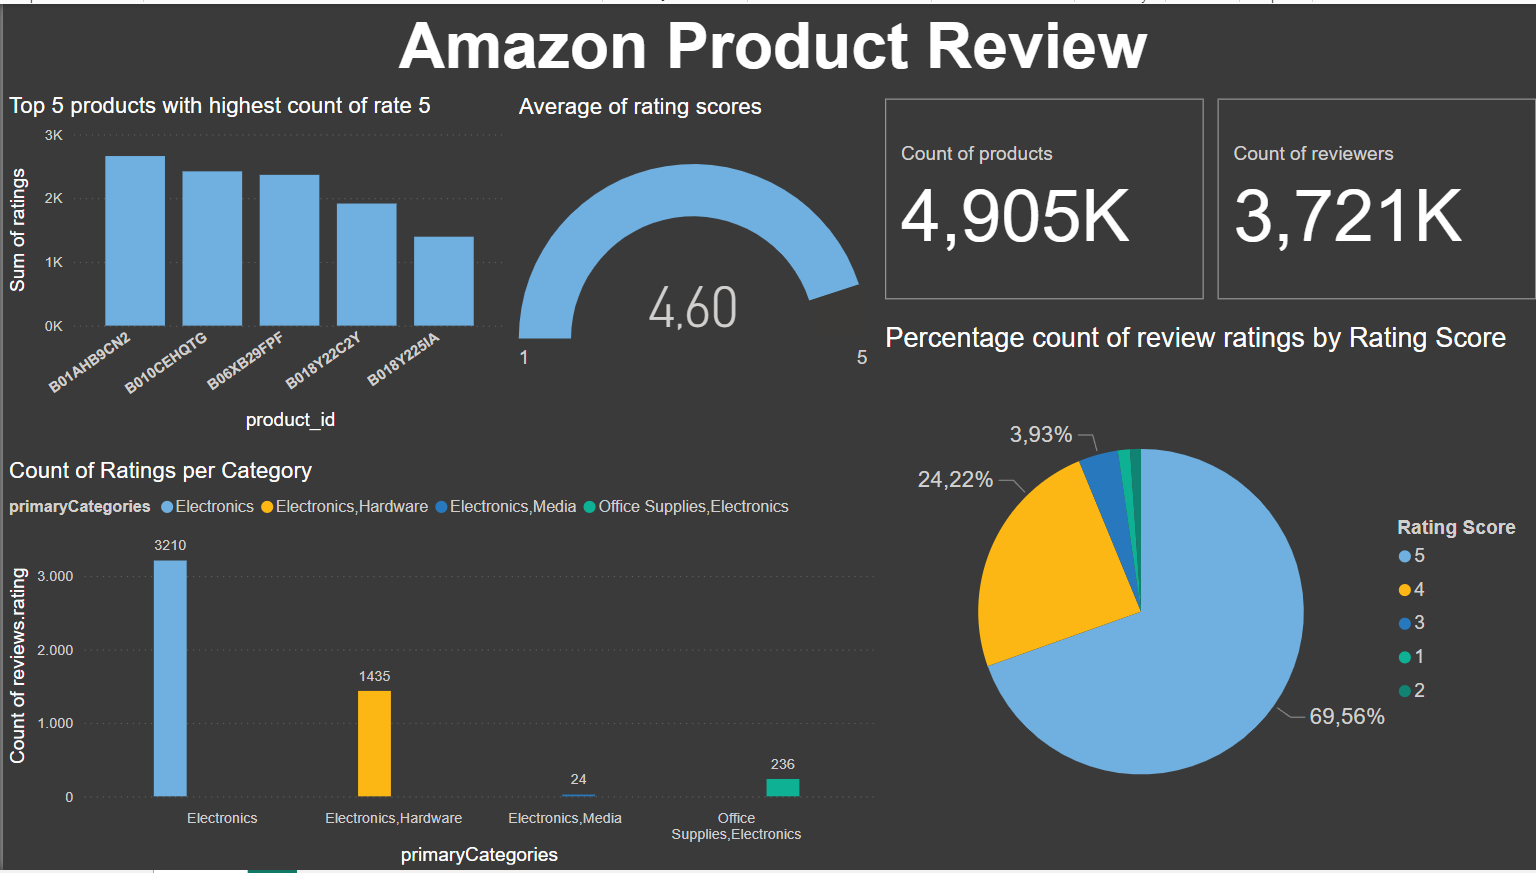

The dashboard page shown, as its layout file describes it:
{"tool":"powerbi","page":{"name":"Page 1","canvas":[1280,720],"ordinal":0},"visuals":[{"type":"textbox","box":[0,0,1280.2,74.4],"z":0},{"type":"cardVisual","fields":{"Data":["Count(Sheet1.reviews.username)"]},"box":[1004.5,74.1,275.8,177],"z":1000},{"type":"pieChart","fields":{"Category":["Sheet1.reviews.rating"],"Y":["Divide(CountNonNull(Sheet1.reviews.rating), ScopedEval(CountNonNull(Sheet1.reviews.rating), []))"]},"box":[728.6,256.6,551.6,463.8],"z":1001},{"type":"cardVisual","fields":{"Data":["CountNonNull(Sheet1.product_id)"]},"box":[728.6,74.1,275.8,177],"z":1002},{"type":"gauge","title":"Average of rating scores","fields":{"Y":["Avg(Sheet1.reviews.rating)"],"MinValue":["Min(Sheet1.reviews.rating)"],"MaxValue":["Max(Sheet1.reviews.rating)"]},"box":[424.4,74.4,300,268.6],"z":1003},{"type":"clusteredColumnChart","title":"Count of Ratings per Category","fields":{"Category":["Sheet1.primaryCategories","Sheet1.reviews.rating"],"Y":["CountNonNull(Sheet1.reviews.rating)"],"Series":["Sheet1.primaryCategories"]},"box":[0,376.7,729.1,343],"z":1004},{"type":"clusteredColumnChart","title":"Top 5 products with highest count of rate 5","fields":{"Category":["Sheet1.product_id"],"Y":["Sum(Sheet1.reviews.rating)"],"Series":["Sheet1.reviews.rating"]},"box":[0,74.1,424,285.4],"z":1005}]}

Visuals, with their boxes in screenshot pixels (x1, y1, x2, y2), scaled from the page's 1280x720 canvas onto the 1536x873 screenshot:
textbox: <bbox>0, 0, 1535, 90</bbox>
cardVisual - Count(Sheet1.reviews.username): <bbox>1205, 90, 1535, 304</bbox>
pieChart - Sheet1.reviews.rating x Divide(CountNonNull(Sheet1.reviews.rating), ScopedEval(CountNonNull(Sheet1.reviews.rating), [])): <bbox>874, 311, 1535, 872</bbox>
cardVisual - CountNonNull(Sheet1.product_id): <bbox>874, 90, 1205, 304</bbox>
"Average of rating scores" gauge: <bbox>509, 90, 869, 416</bbox>
"Count of Ratings per Category" clusteredColumnChart: <bbox>0, 457, 875, 872</bbox>
"Top 5 products with highest count of rate 5" clusteredColumnChart: <bbox>0, 90, 509, 436</bbox>
